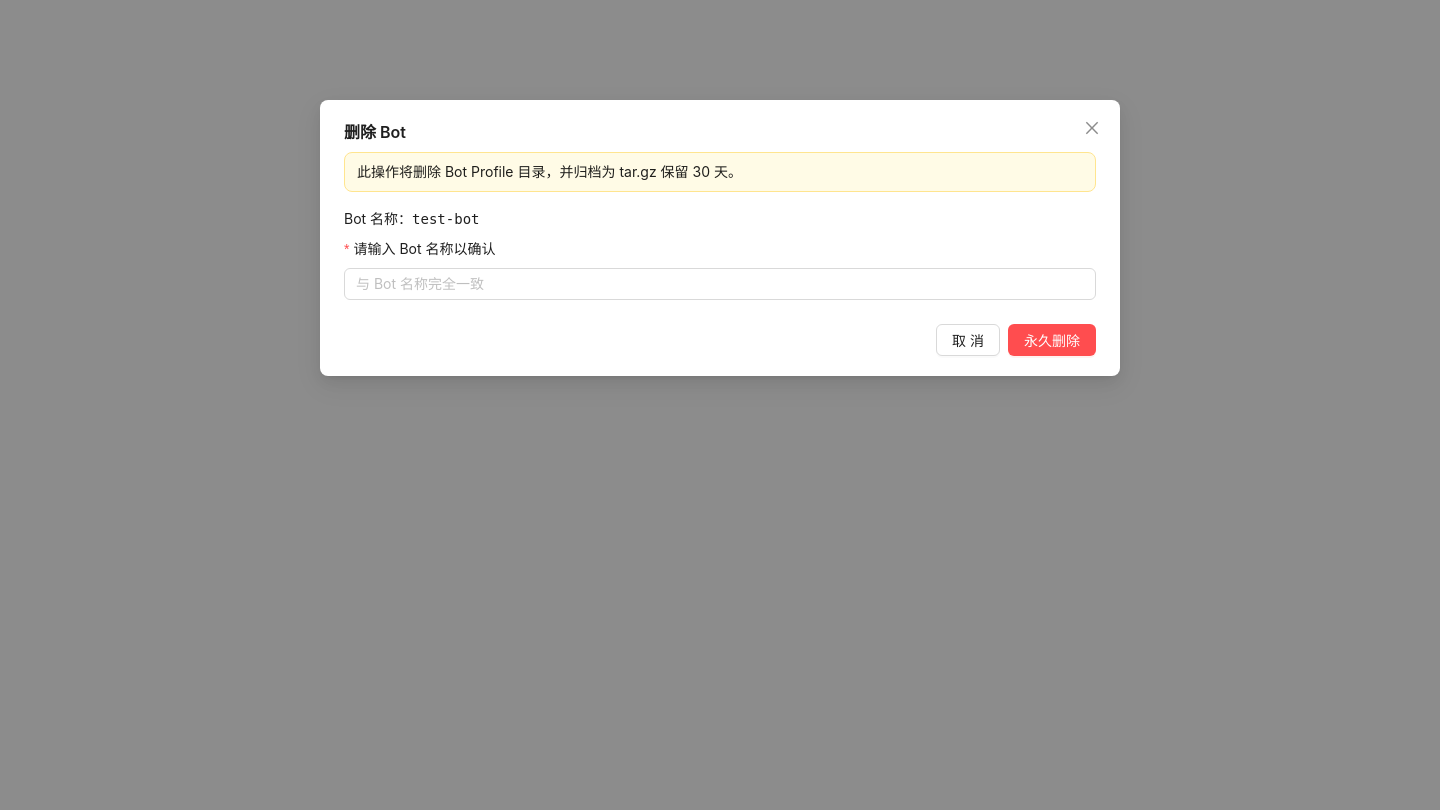
Test: <DeleteBotModal> › test_validator_rejects_mismatched_name: typing wrong name shows 名称不一致
Expected: the text "删除 Bot" is shown, [344,122,406,142]
Type "wrong" into the field with test id "delete-bot-confirm-input" at point(712, 284), box [356,273,1068,295]
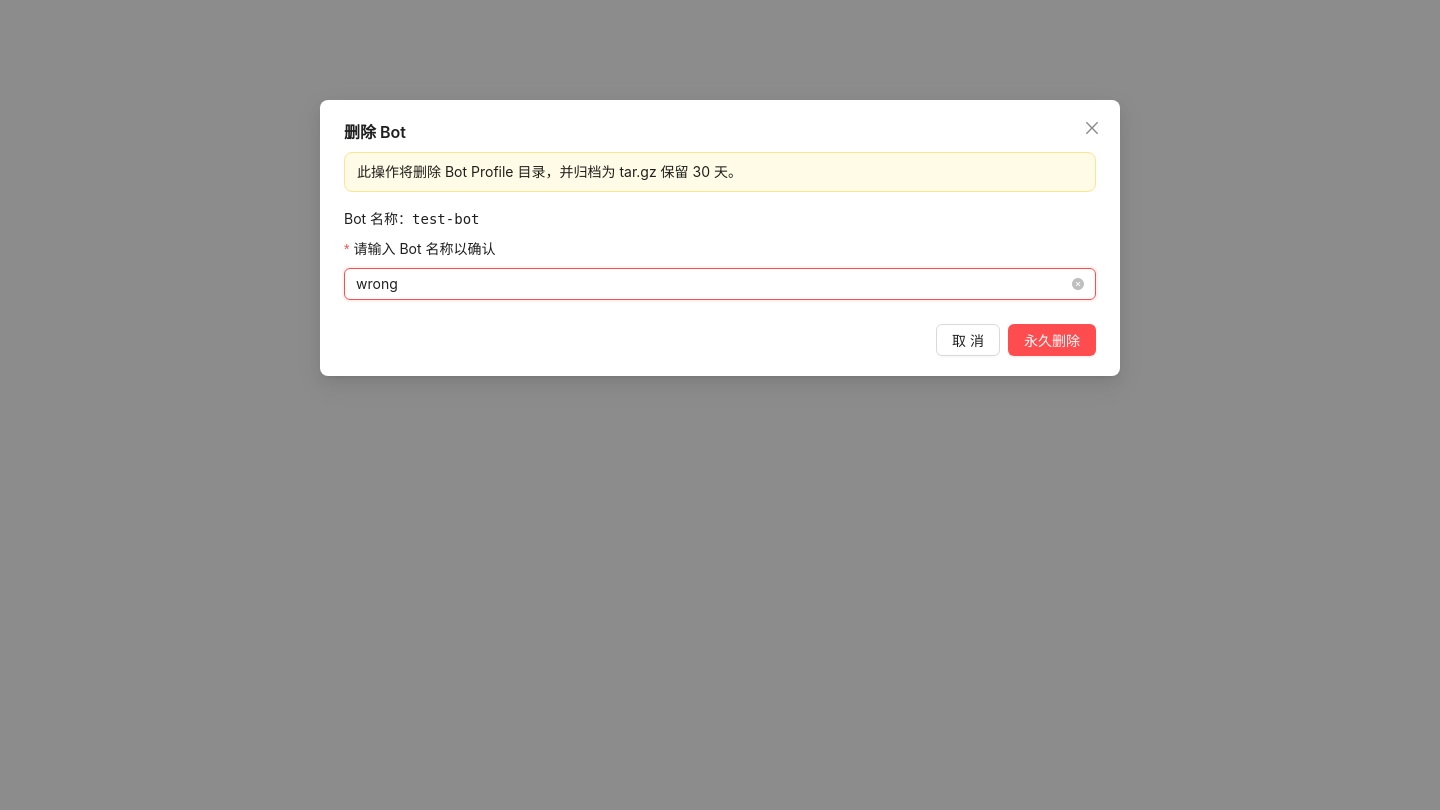
Click the button "永久删除" at point(1052, 340), box [1008,324,1096,356]
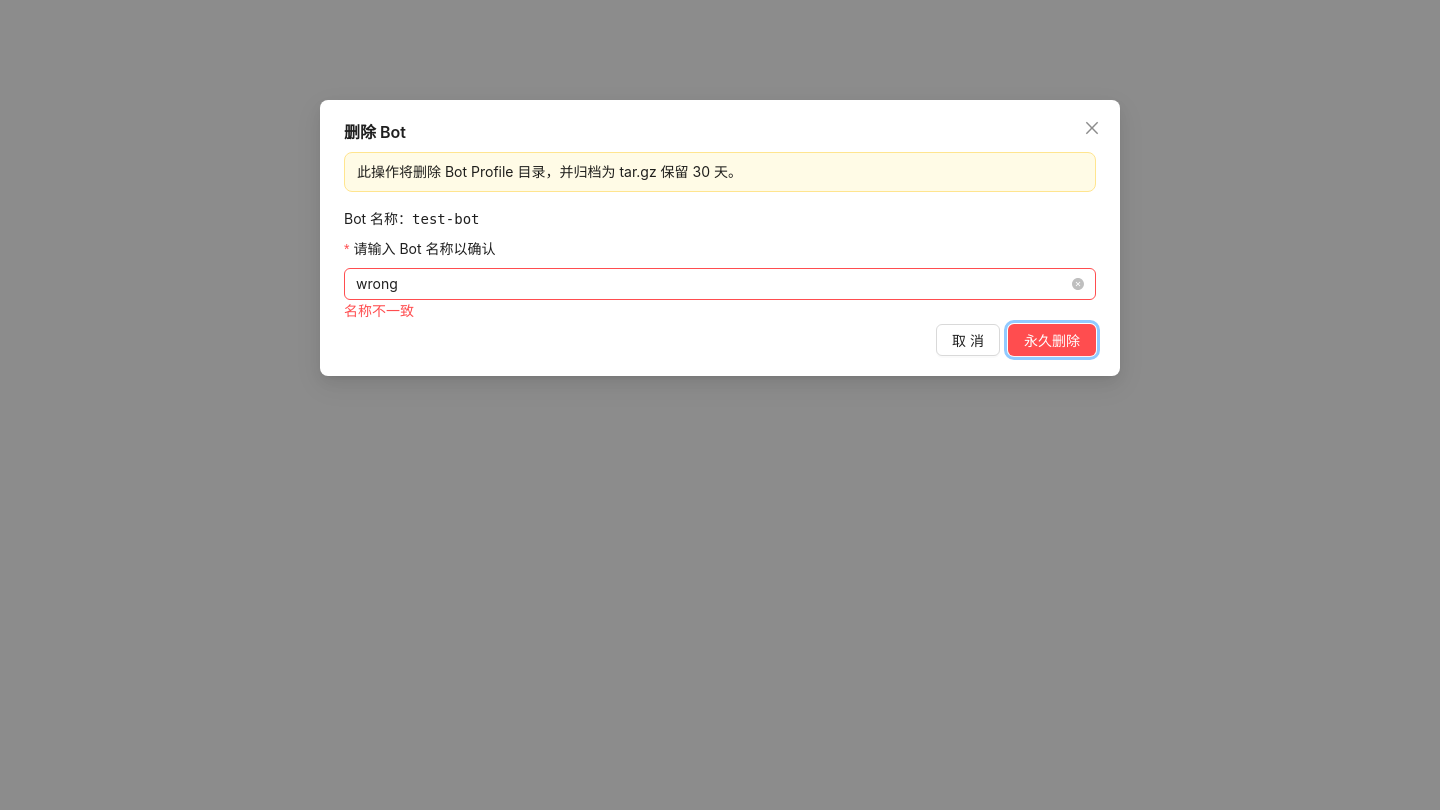
Expected: the text "名称不一致" is shown, [344,302,414,319]
